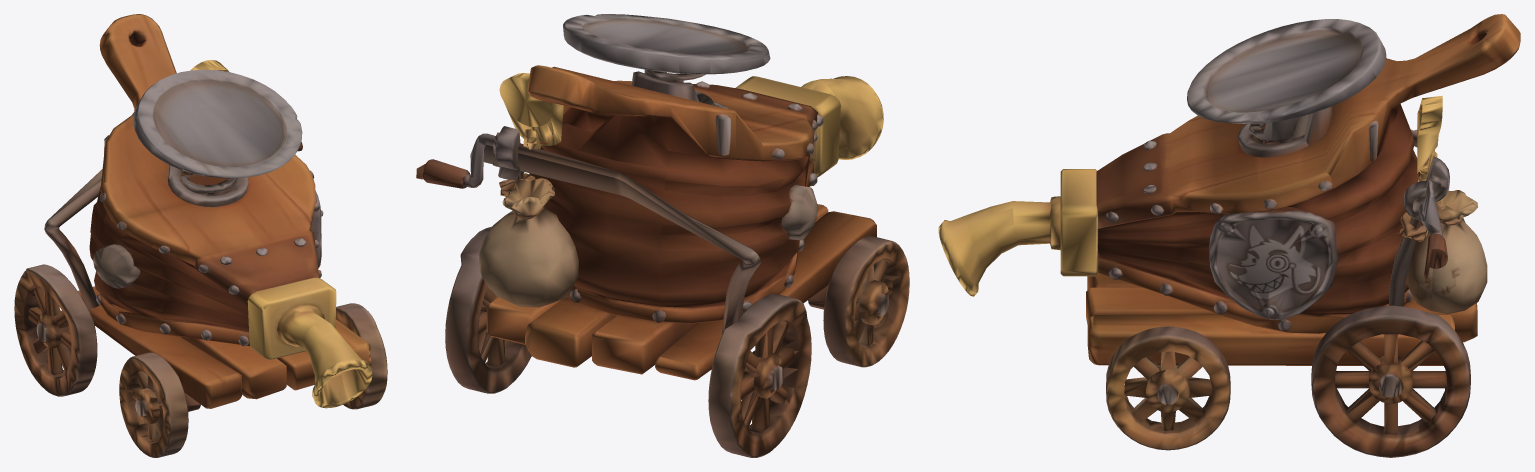
Rendered from bellows_machine_v2_busted.glb.
3 renders of one model, left to right at view 1: azimuth 30°, elevation 25°; view 2: azimuth 150°, elevation 25°; view 3: azimuth 270°, elevation 25°, orthographic. The views are drawn at different scales.
Visible parts, largest first — view 1: bellows_machine_v2; view 2: bellows_machine_v2; view 3: bellows_machine_v2.
Part boxes in pixels (x1=…): bellows_machine_v2: x1=14, y1=14, x2=387, y2=457; bellows_machine_v2: x1=416, y1=14, x2=909, y2=457; bellows_machine_v2: x1=938, y1=14, x2=1520, y2=457.
Bounding box in the file's own units: 2.99 × 3.19 × 4.46.
1 material, 1 textured.
